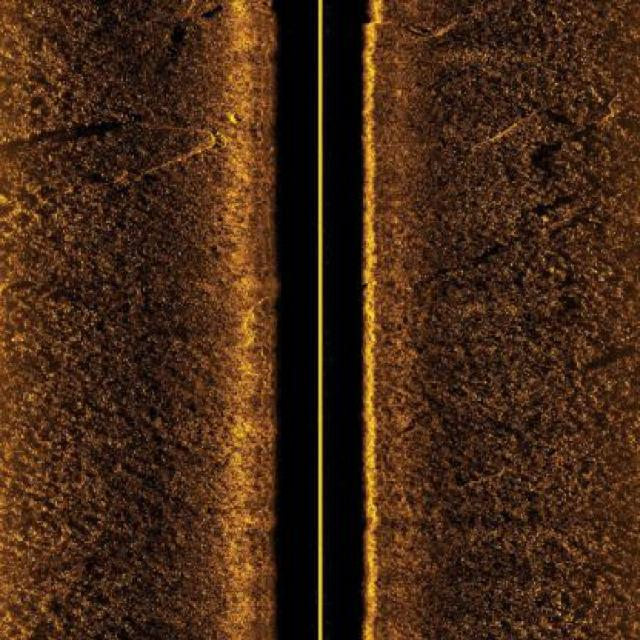mine: (222, 108, 249, 126)
